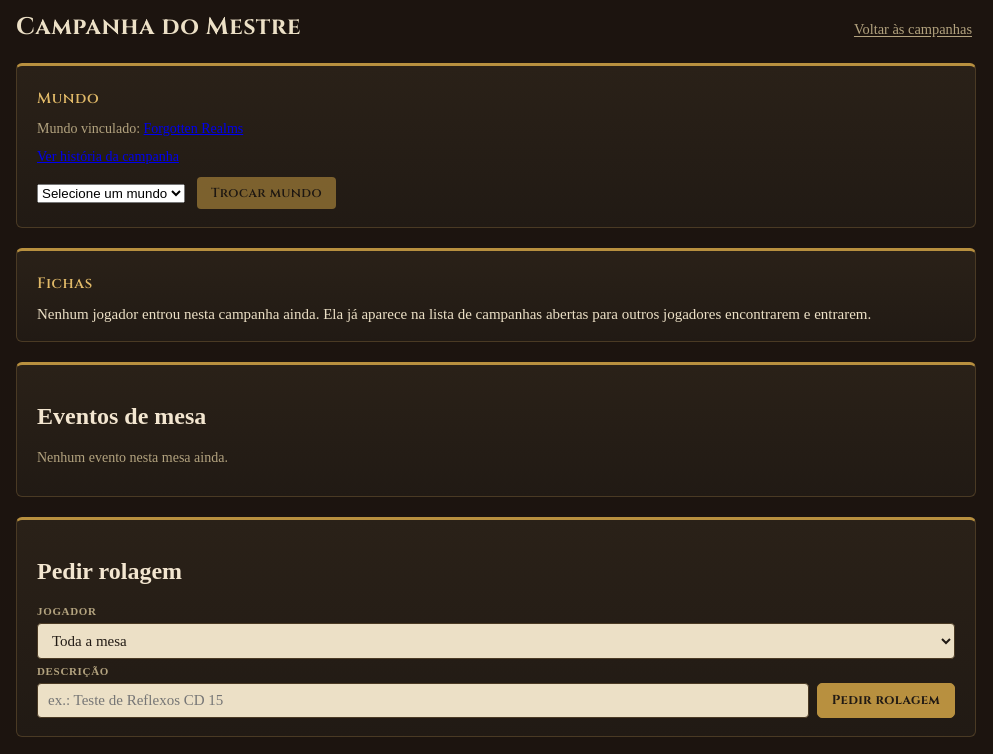
Test: vínculo de mundo à campanha › permite trocar o mundo já vinculado por outro
Expected: the button "Trocar mundo" is shown, [197,177,336,209]
Select "Eberron" in the dropdown named "Escolher mundo". click: (111, 193)
box: [37,184,185,202]
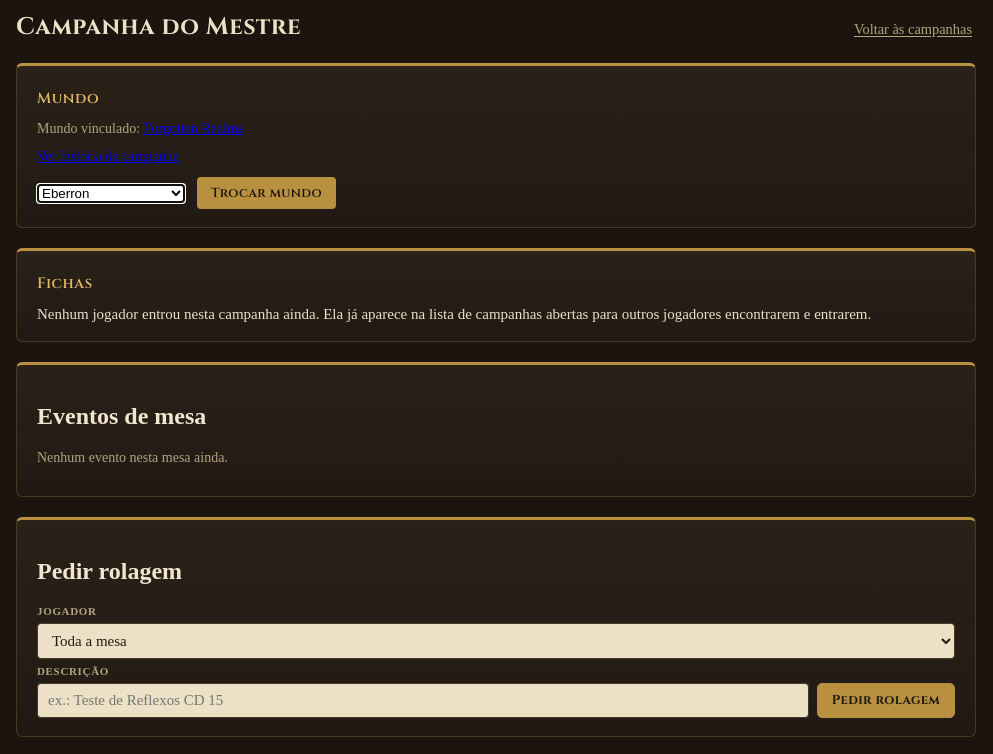
Click the button "Trocar mundo". click: (266, 193)
box: [197,177,336,209]
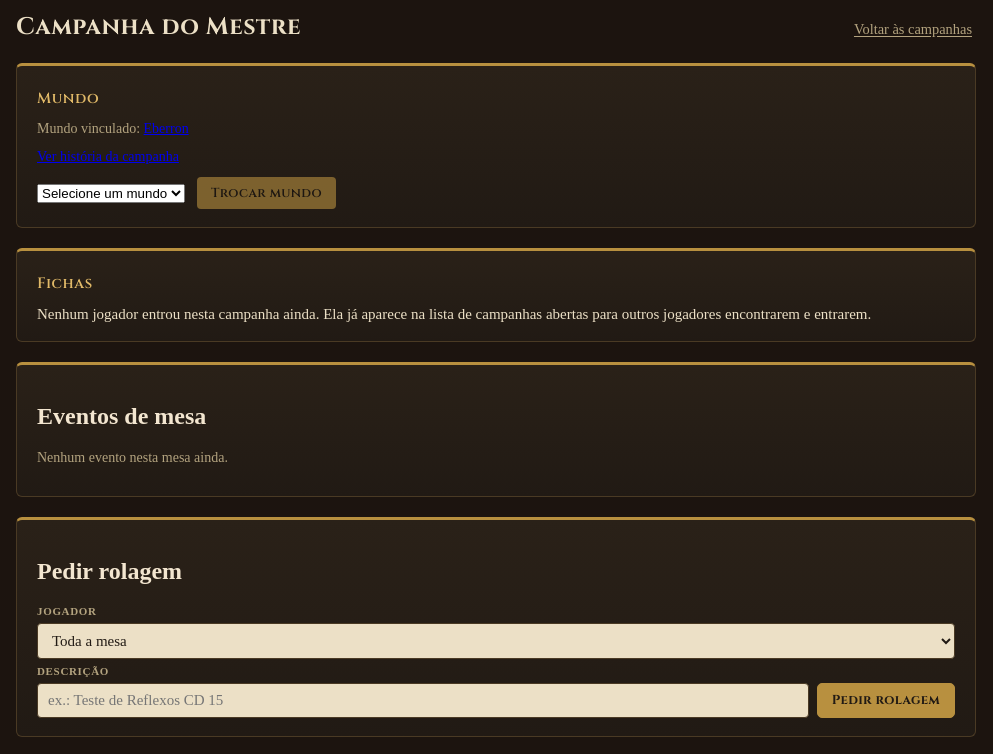
Expected: the link "Eberron" is shown, [144,121,189,136]
